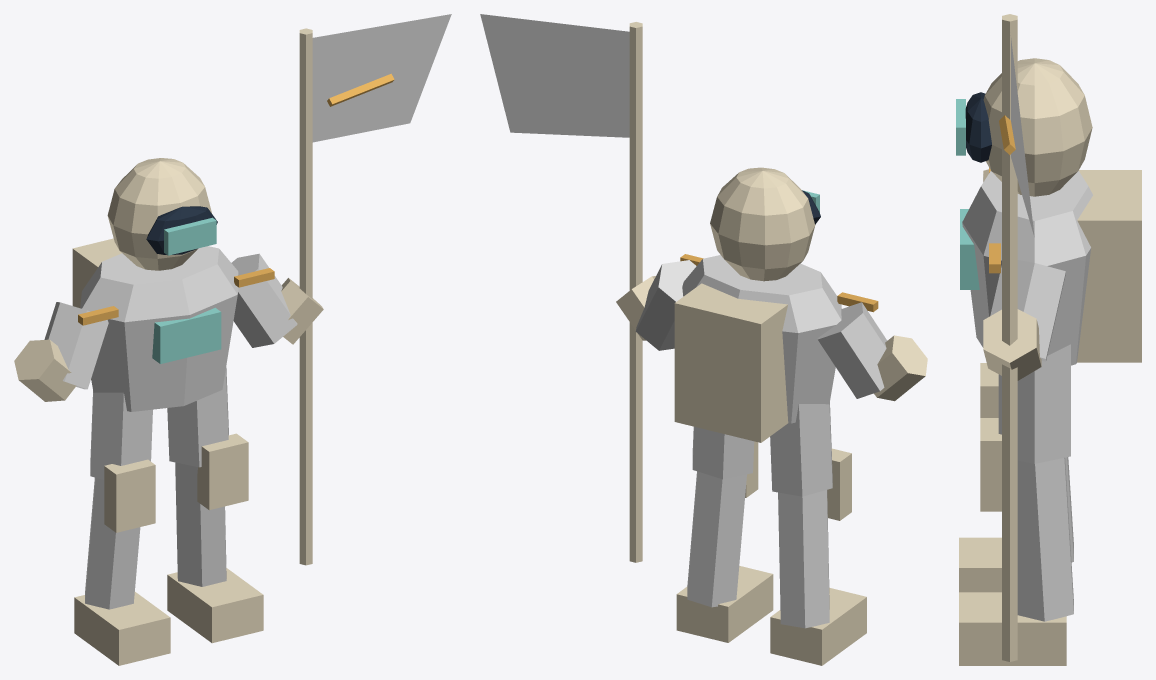
File: space_scene_field_promotion.glb
3 renders of one model, left to right at view 1: azimuth 30°, elevation 25°; view 2: azimuth 150°, elevation 25°; view 3: azimuth 270°, elevation 25°, orthographic. The views are drawn at different scales.
Parts seen in each view (by area): view 1: WoodBody, FixedDetails, BrassTrim; view 2: WoodBody, FixedDetails, BrassTrim; view 3: FixedDetails, WoodBody, BrassTrim.
Part boxes in pixels (left/top/right/bottom): WoodBody: left=44, top=14, right=451, bottom=609; FixedDetails: left=14, top=158, right=323, bottom=665; BrassTrim: left=78, top=28, right=394, bottom=565; WoodBody: left=480, top=14, right=887, bottom=628; FixedDetails: left=616, top=167, right=927, bottom=665; BrassTrim: left=629, top=22, right=878, bottom=562; FixedDetails: left=956, top=58, right=1141, bottom=665; WoodBody: left=962, top=35, right=1092, bottom=621; BrassTrim: left=989, top=14, right=1017, bottom=661.
Size of the model in its own units: 0.5789 by 0.718 by 0.1764.
